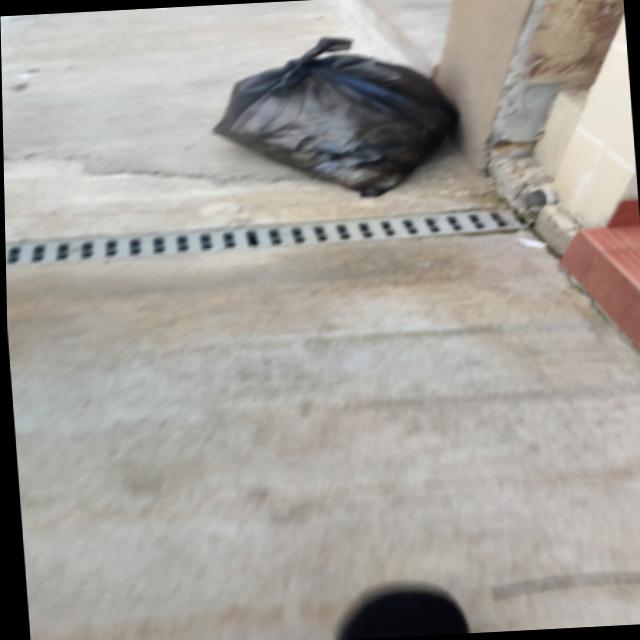Mixed Waste -Black Bags-: (204, 36, 459, 193)
